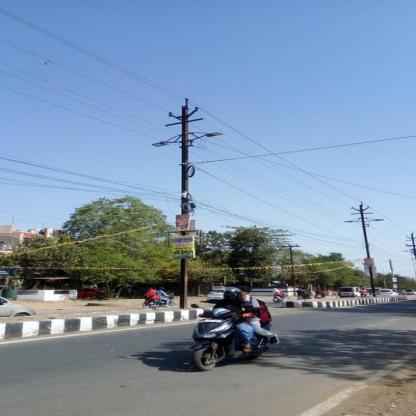Electrical Pole: (143, 97, 222, 310)
